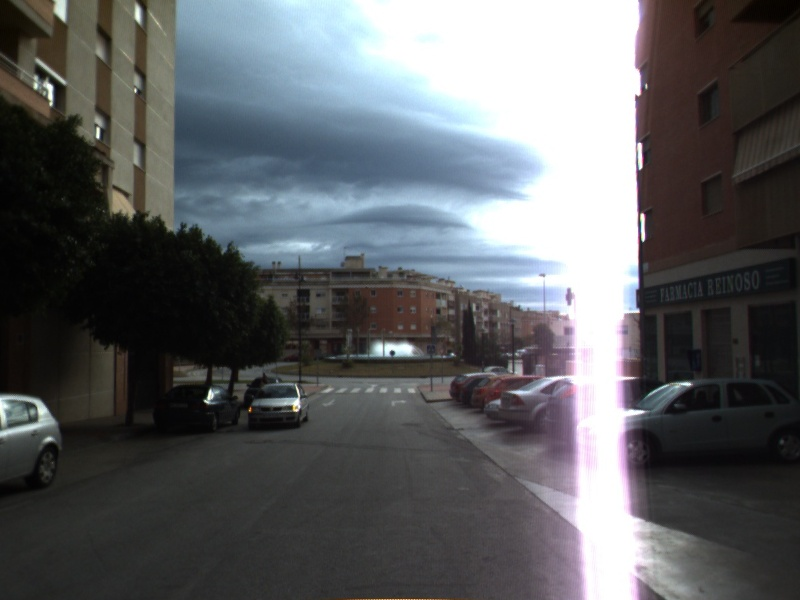RIGHT: (389, 397, 409, 408)
